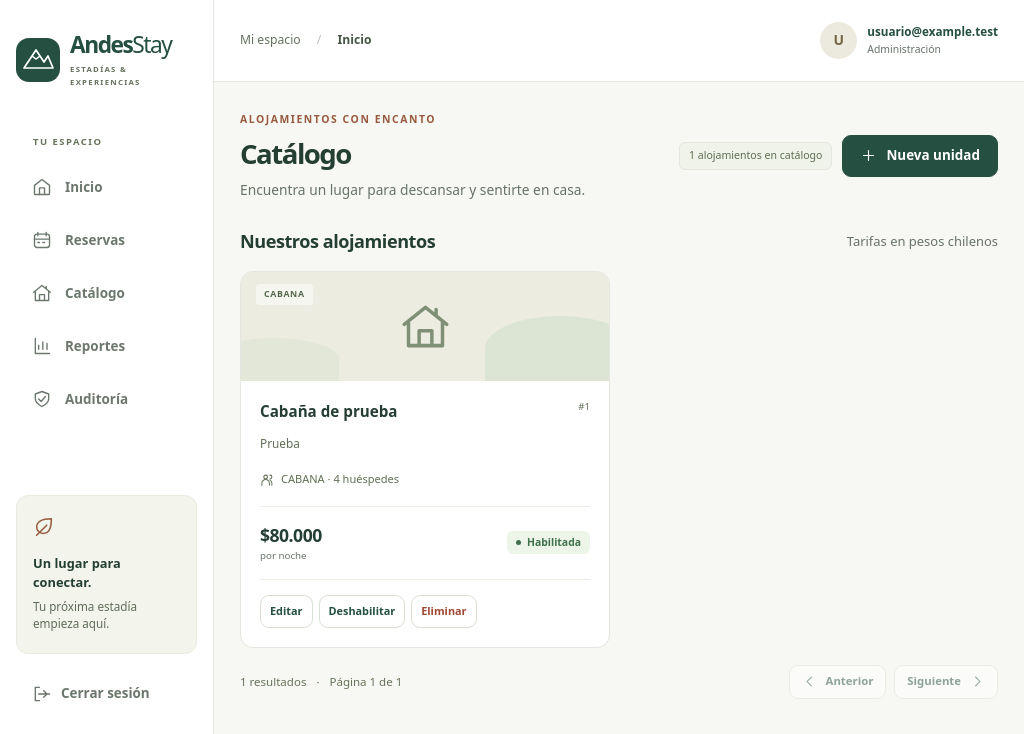
Scenario: catálogo › muestra la explicación del backend cuando la unidad tiene reservas
Expected: the heading "Cabaña de prueba" is shown, [260,400,398,423]
Step 1. Click the button "Eliminar" → (444, 611), box [411,595,477,628]
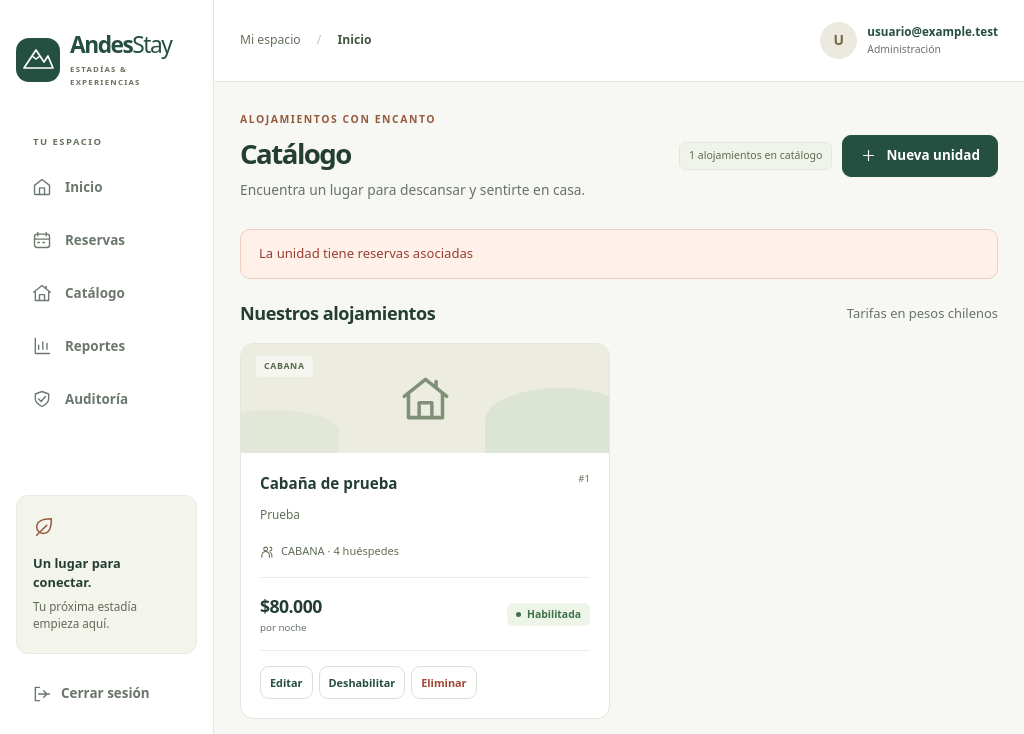
Result: the message reads "La unidad tiene reservas asociadas" at [259,244,473,262]
